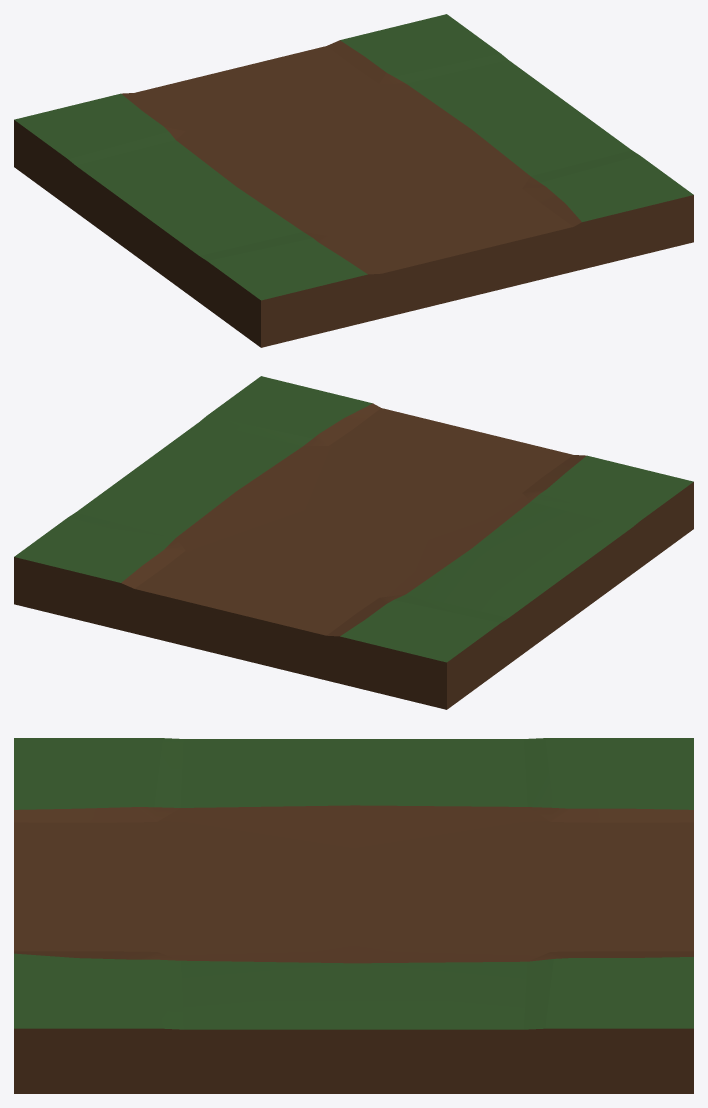
The model's file is Dirt Straight.fbx.
3 views of the same model, one above another, from view 1: azimuth 30°, elevation 25°; view 2: azimuth 150°, elevation 25°; view 3: azimuth 270°, elevation 25° (orthographic). The views are drawn at different scales.
Visible parts, largest first — view 1: DirtStraight; view 2: DirtStraight; view 3: DirtStraight.
Boxes of the visible parts, left/top/right/bottom form: DirtStraight: left=14, top=14, right=693, bottom=347; DirtStraight: left=14, top=376, right=693, bottom=709; DirtStraight: left=14, top=738, right=693, bottom=1093.
Bounding box in the file's own units: 10.11 × 1.06 × 10.
